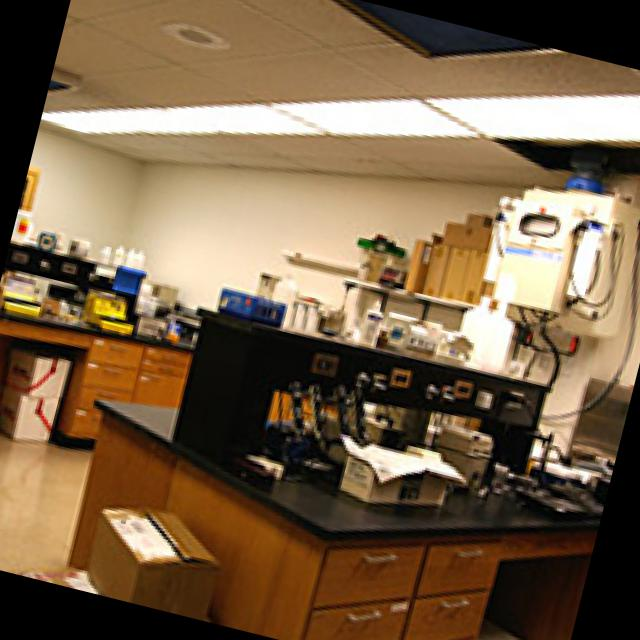box contants: (84, 507, 216, 616)
ceiling beam: (40, 0, 640, 188)
desk calendar: (57, 395, 611, 640)
desk organizer: (0, 281, 193, 446)
floor -X: (0, 340, 586, 640)
lamp crop: (425, 92, 640, 138), (43, 99, 323, 133), (267, 97, 475, 132)
wall clock: (94, 160, 640, 554), (0, 122, 143, 359)
